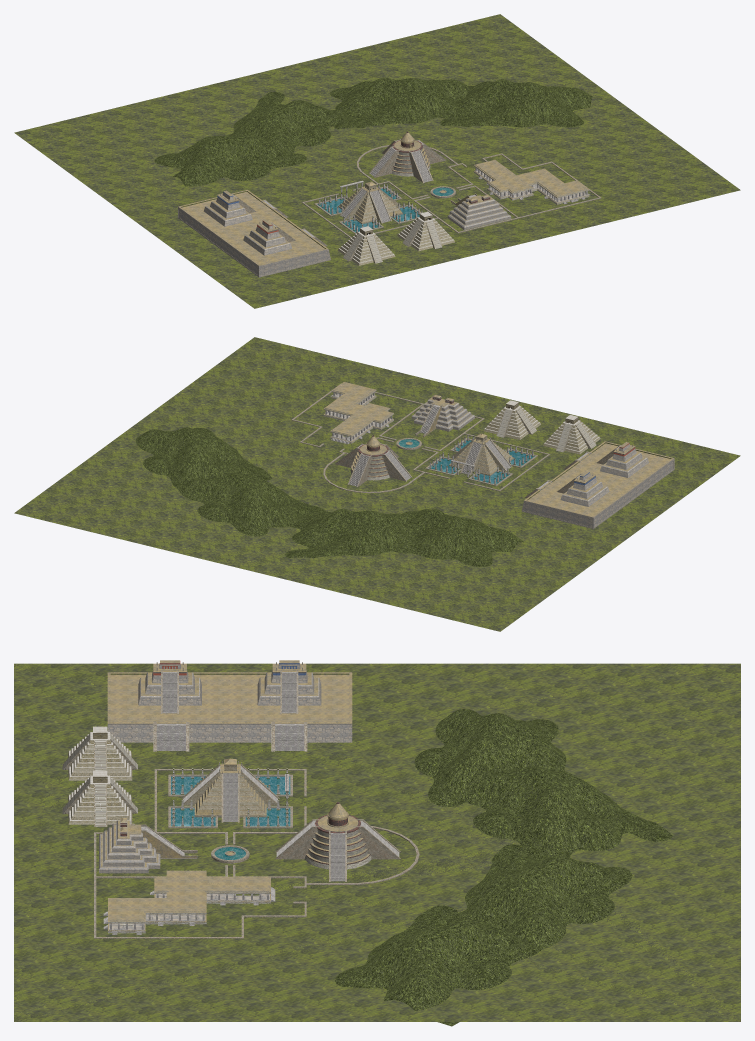
The model's file is aztec_temple.glb.
The picture shows the model from 3 angles, top to bottom: view 1: azimuth 30°, elevation 25°; view 2: azimuth 150°, elevation 25°; view 3: azimuth 270°, elevation 25°; orthographic projection. The views are drawn at different scales.
Parts seen in each view (by area): view 1: Material2 (×7), Material3 (×7); view 2: Material2 (×7), Material3 (×8); view 3: Material2 (×8), Material3 (×10).
Boxes of the visible parts, x1,y1,x2,y2 form: Material2 (×7): [14, 14, 740, 308]; Material3 (×7): [154, 77, 601, 277]; Material2 (×7): [14, 337, 740, 631]; Material3 (×8): [135, 383, 674, 566]; Material2 (×8): [14, 660, 740, 1021]; Material3 (×10): [62, 662, 672, 1026].
Bounding box in the file's own units: 33.78 × 3 × 28.92.
Materials: 46 (40 with a texture image).
